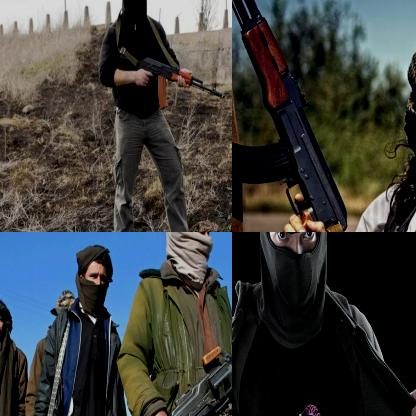rifle: (232, 0, 378, 231), (101, 288, 231, 415), (137, 56, 228, 120)
